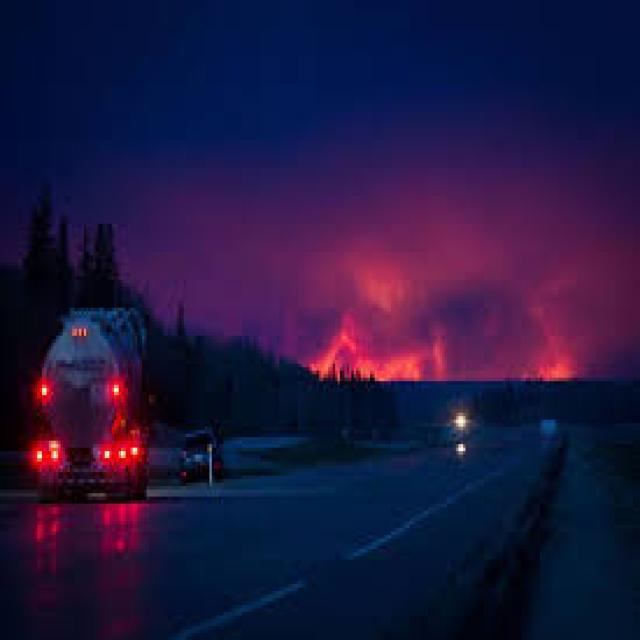Fire: (312, 313, 430, 391)
